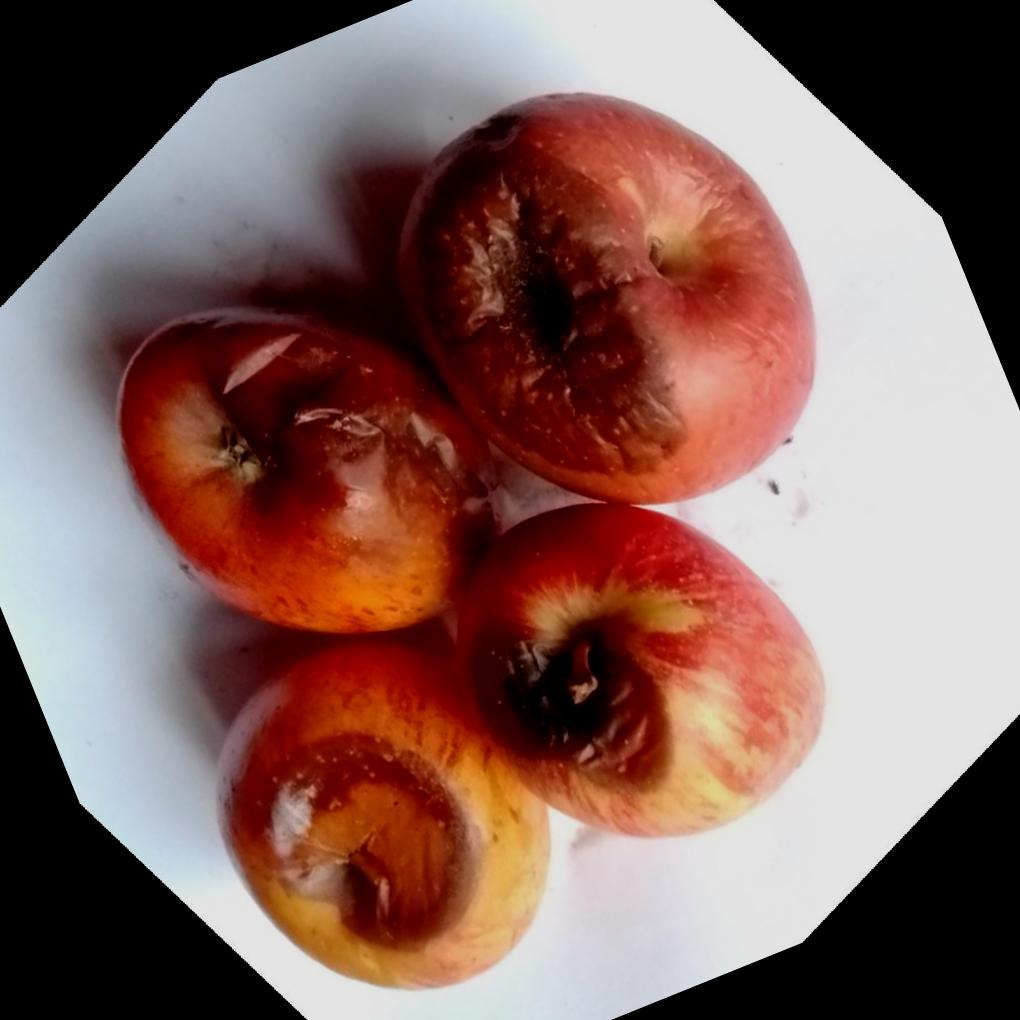FreshOrange: (117, 95, 824, 992)
